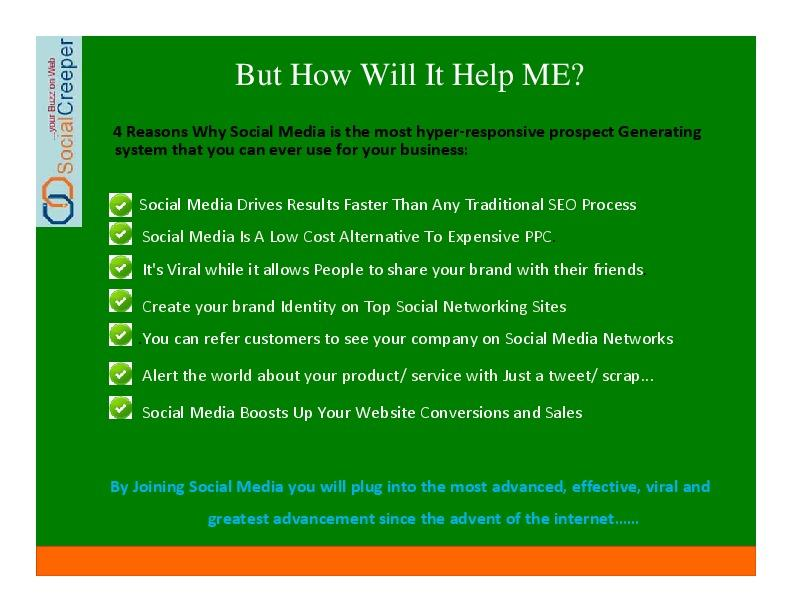paragraph: (91, 115, 723, 451)
title: (228, 54, 595, 101)
